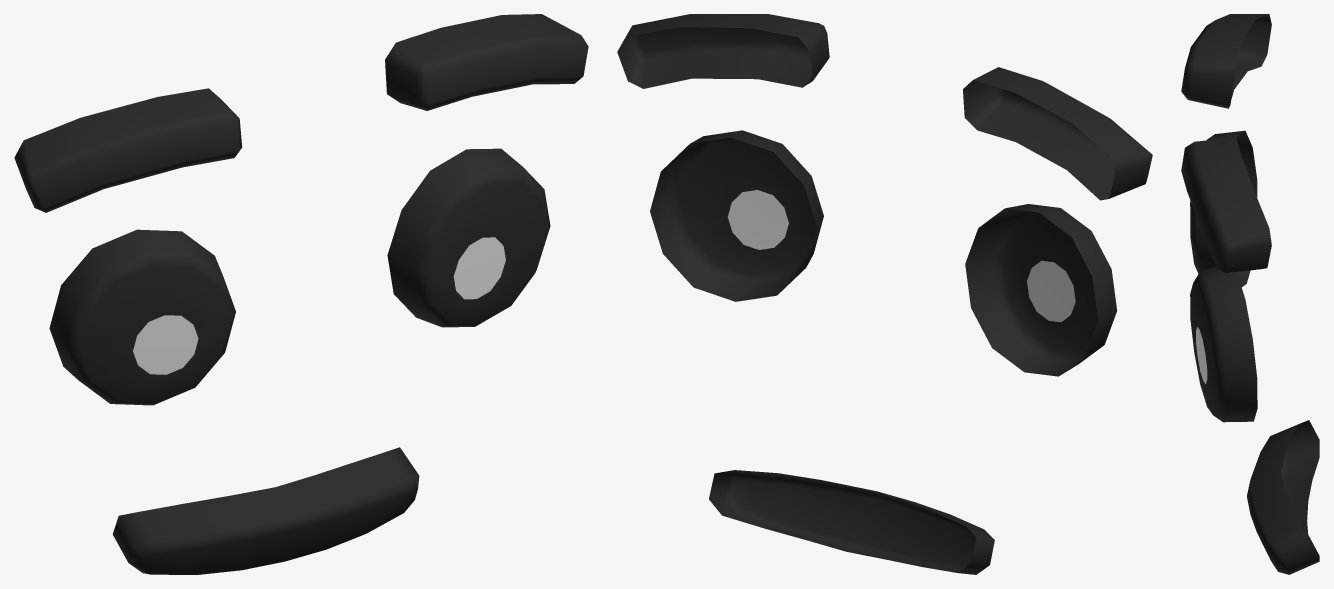
File: Male_Emotion_Neutral_01.glb
3 views of the same model, side by side, from view 1: azimuth 30°, elevation 25°; view 2: azimuth 150°, elevation 25°; view 3: azimuth 270°, elevation 25° (orthographic). The views are drawn at different scales.
Visible parts, largest first — view 1: Male_Emotion_Neutral_01; view 2: Male_Emotion_Neutral_01; view 3: Male_Emotion_Neutral_01.
Part boxes in pixels (x1,y1,x2,y2): Male_Emotion_Neutral_01: [14, 14, 588, 574]; Male_Emotion_Neutral_01: [617, 14, 1152, 574]; Male_Emotion_Neutral_01: [1181, 14, 1319, 574].
Bounding box in the file's own units: 0.2171 × 0.1897 × 0.0547.
Materials: 1 (1 with a texture image).
